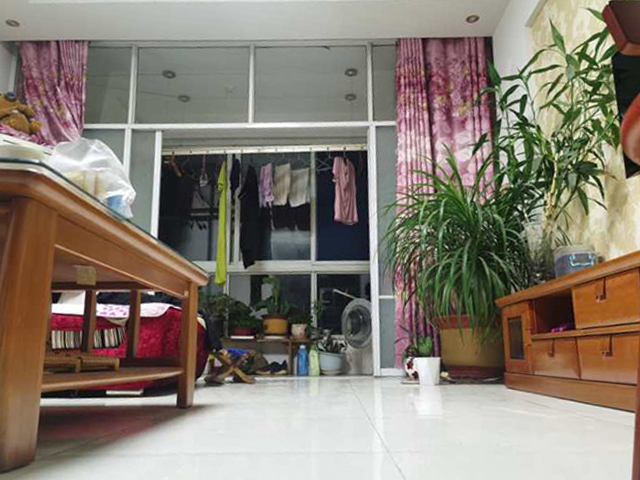cabinet: (492, 249, 640, 417)
curtain: (397, 37, 496, 369)
stool: (207, 347, 256, 386)
table: (1, 162, 206, 473)
